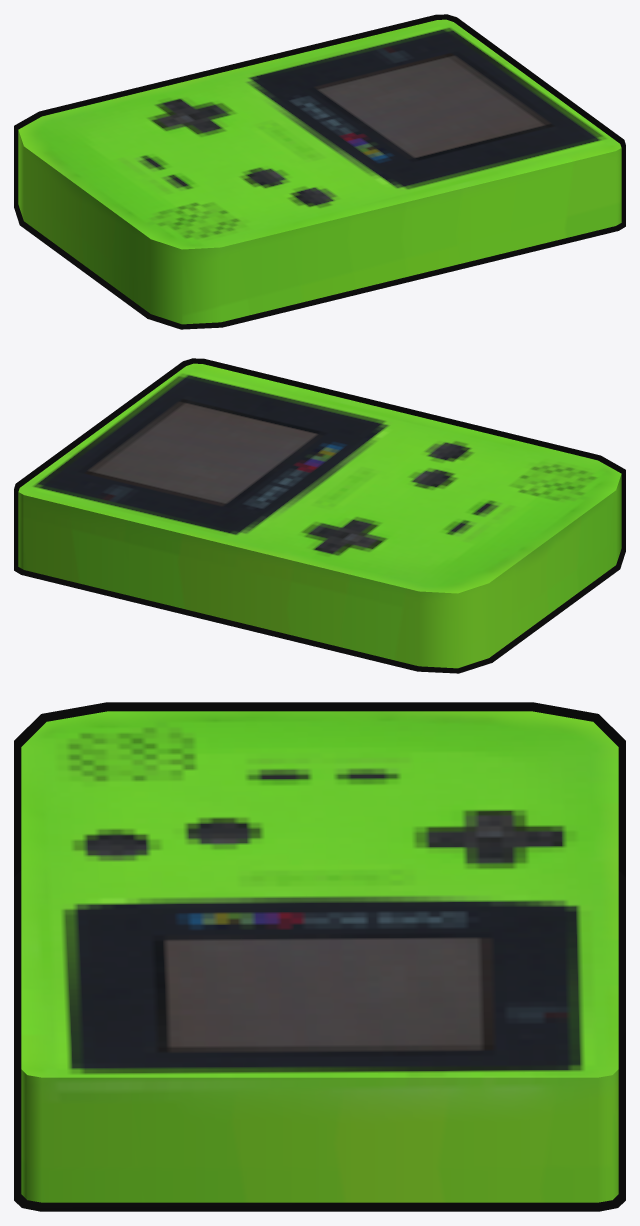
Rendered from Gameboy color.glb.
3 views of the same model, one above another, from view 1: azimuth 30°, elevation 25°; view 2: azimuth 150°, elevation 25°; view 3: azimuth 270°, elevation 25° (orthographic). The views are drawn at different scales.
Parts seen in each view (by area): view 1: Gameboy color; view 2: Gameboy color; view 3: Gameboy color.
Boxes of the visible parts, left/top/right/bottom form: Gameboy color: left=14, top=14, right=625, bottom=329; Gameboy color: left=14, top=358, right=625, bottom=673; Gameboy color: left=14, top=702, right=625, bottom=1211.
Bounding box in the file's own units: 1.89 × 0.3373 × 1.31.
Materials: 2 (1 with a texture image).
